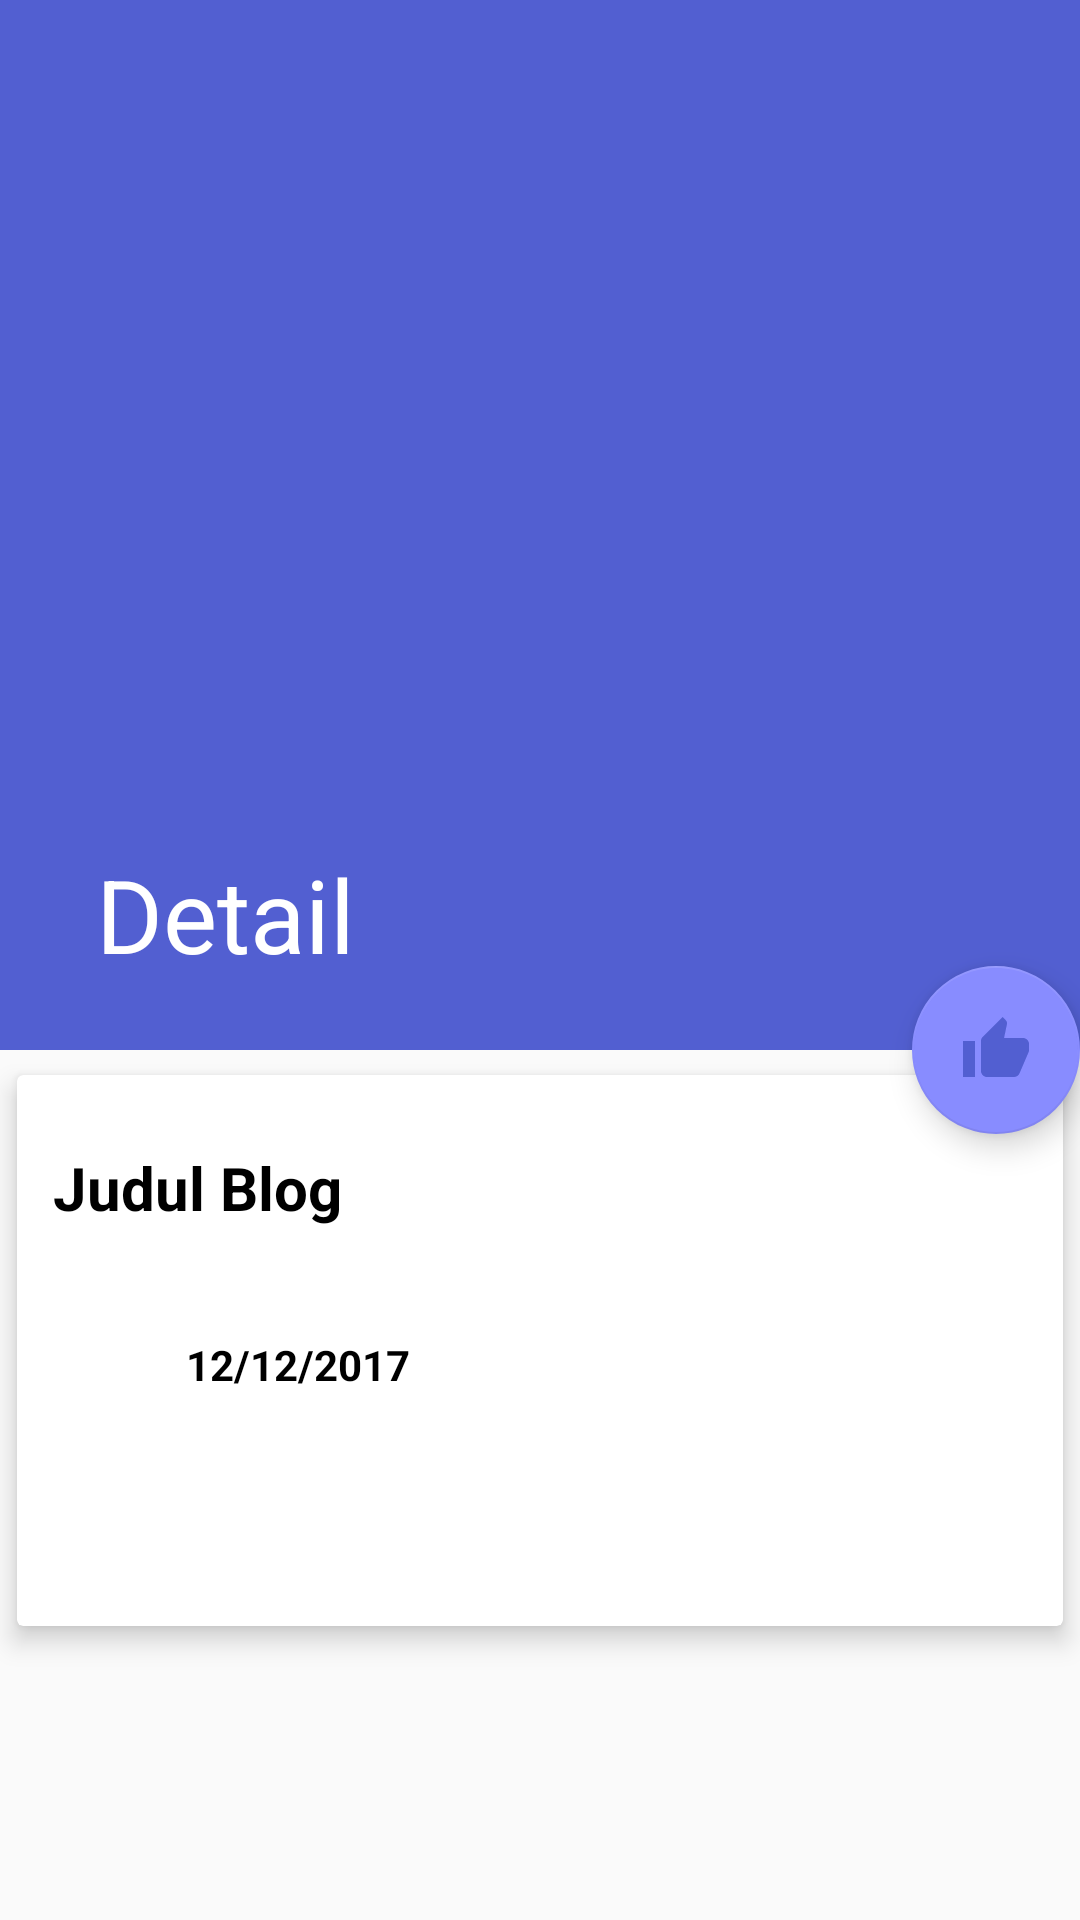

Point at icon controls on the screen. Image size 1080x1920, points as (x=x, y=y).
thumb up: (x=996, y=1050)
